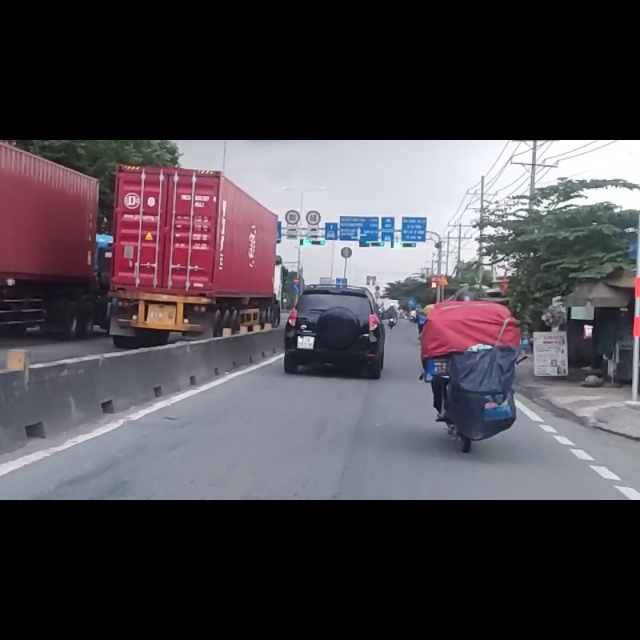bien_cam: (305, 123, 322, 153), (285, 124, 300, 152), (293, 244, 300, 256), (293, 257, 300, 269)
